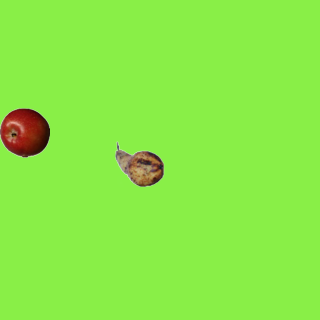Apple Braeburn: (0, 107, 49, 157)
Pear Abate: (114, 139, 164, 189)
